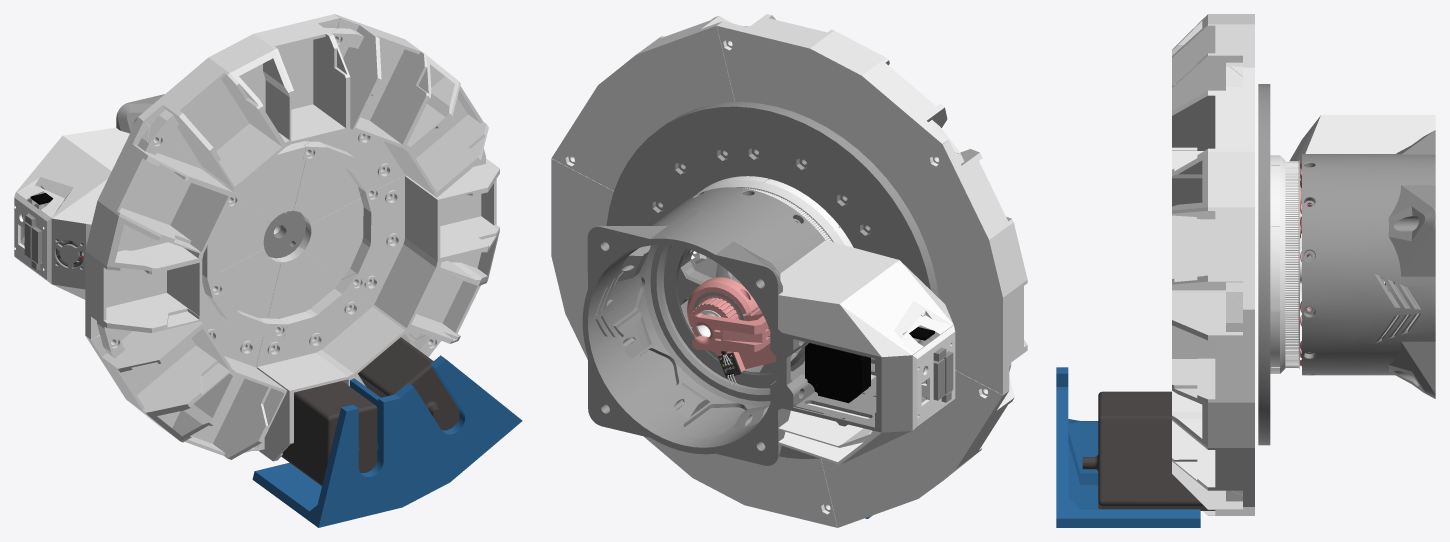
File: atmospheric-sampler.glb
The picture shows the model from 3 angles, left to right: view 1: azimuth 30°, elevation 25°; view 2: azimuth 150°, elevation 25°; view 3: azimuth 270°, elevation 25°; orthographic projection. The views are drawn at different scales.
Size of the model in its own units: 415 by 423 by 315.
